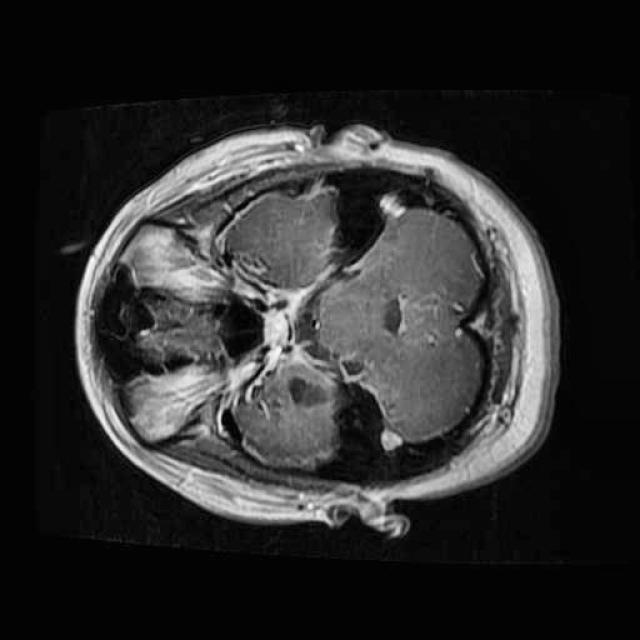Non-Tumor: (281, 369, 341, 416)
